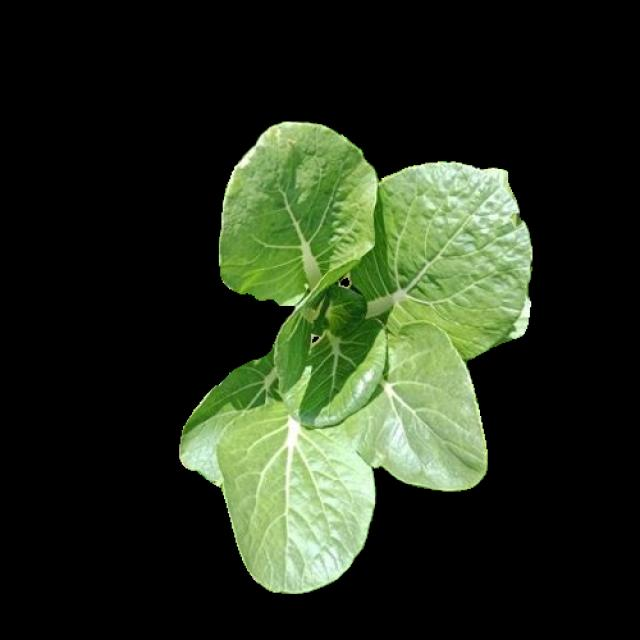healthy: (184, 138, 524, 586)
mature: (182, 124, 526, 589)
